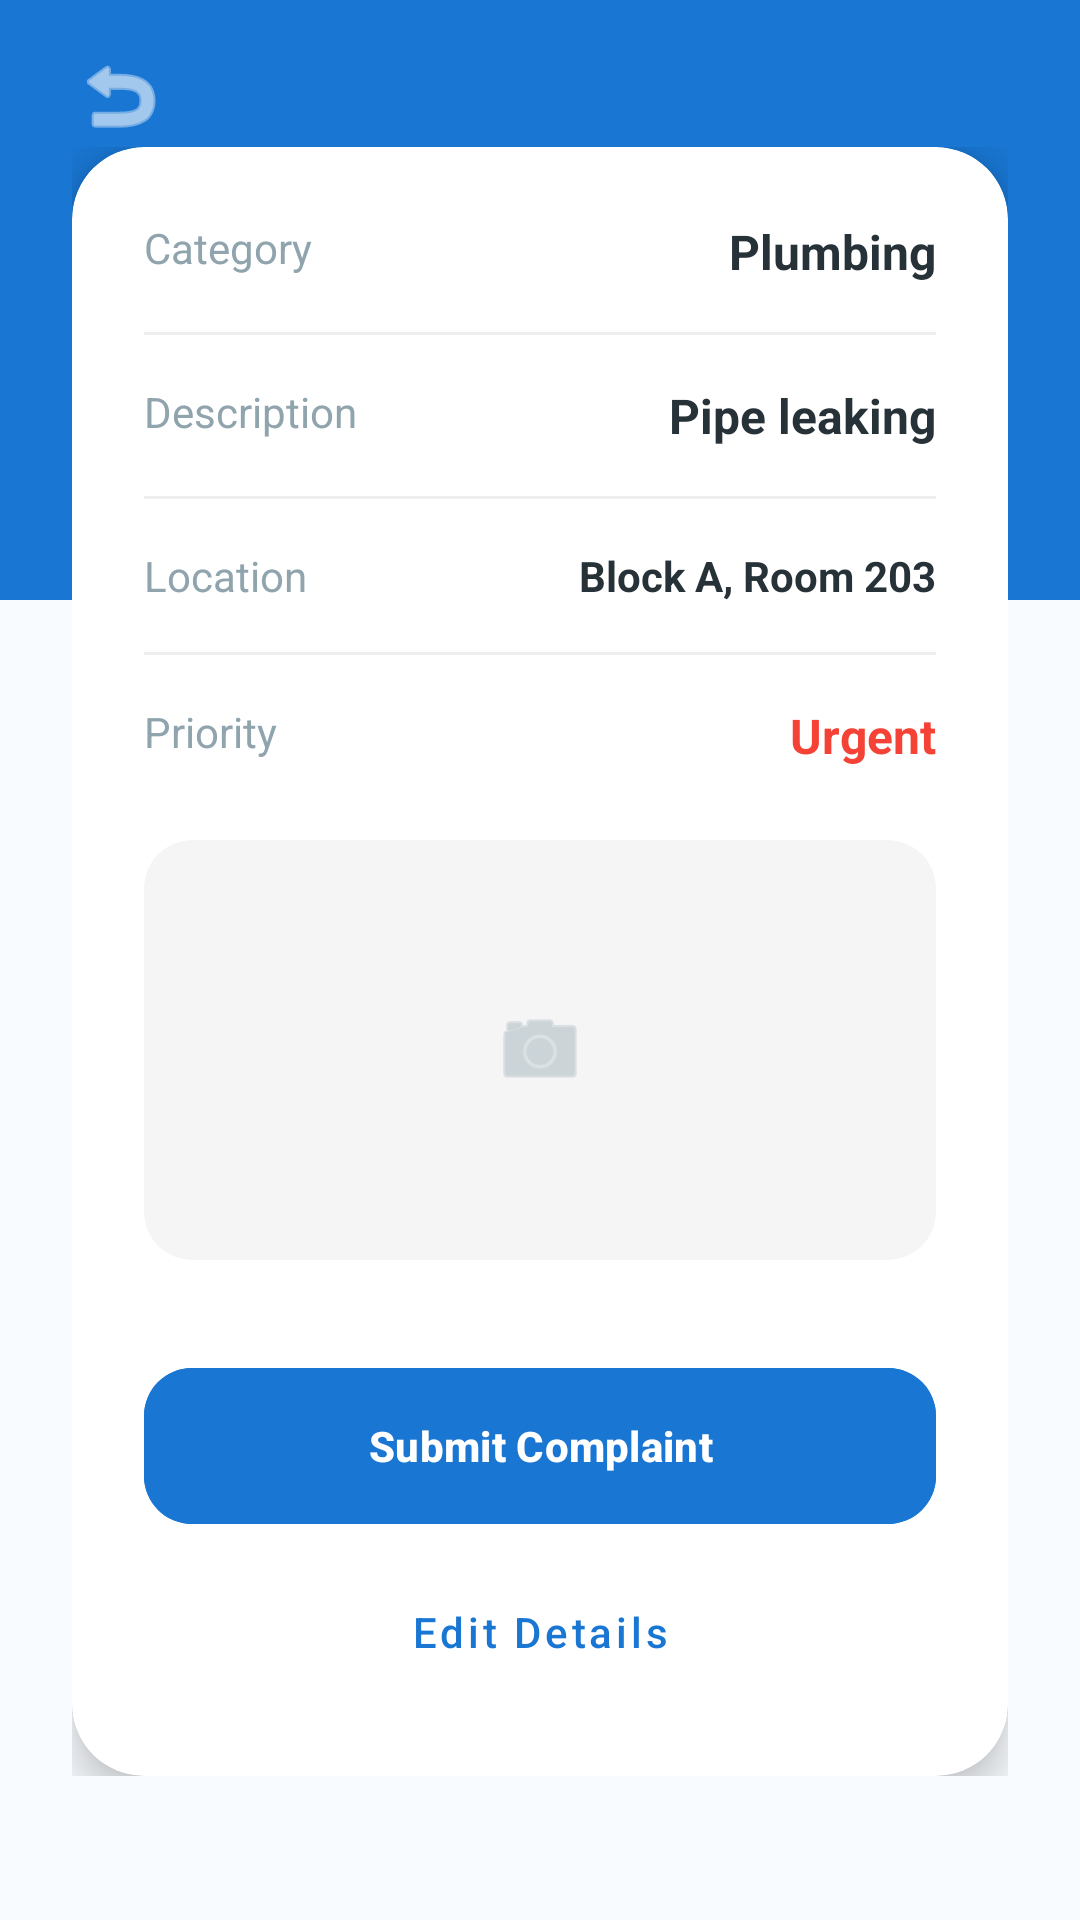

Locate icon controls on the screen. Image size 1080px x 1920px, boxes as (left=x1, top=y1, right=x2, bottom=y2).
Back: (left=87, top=65, right=156, bottom=128)
camera: (left=503, top=1019, right=577, bottom=1078)
